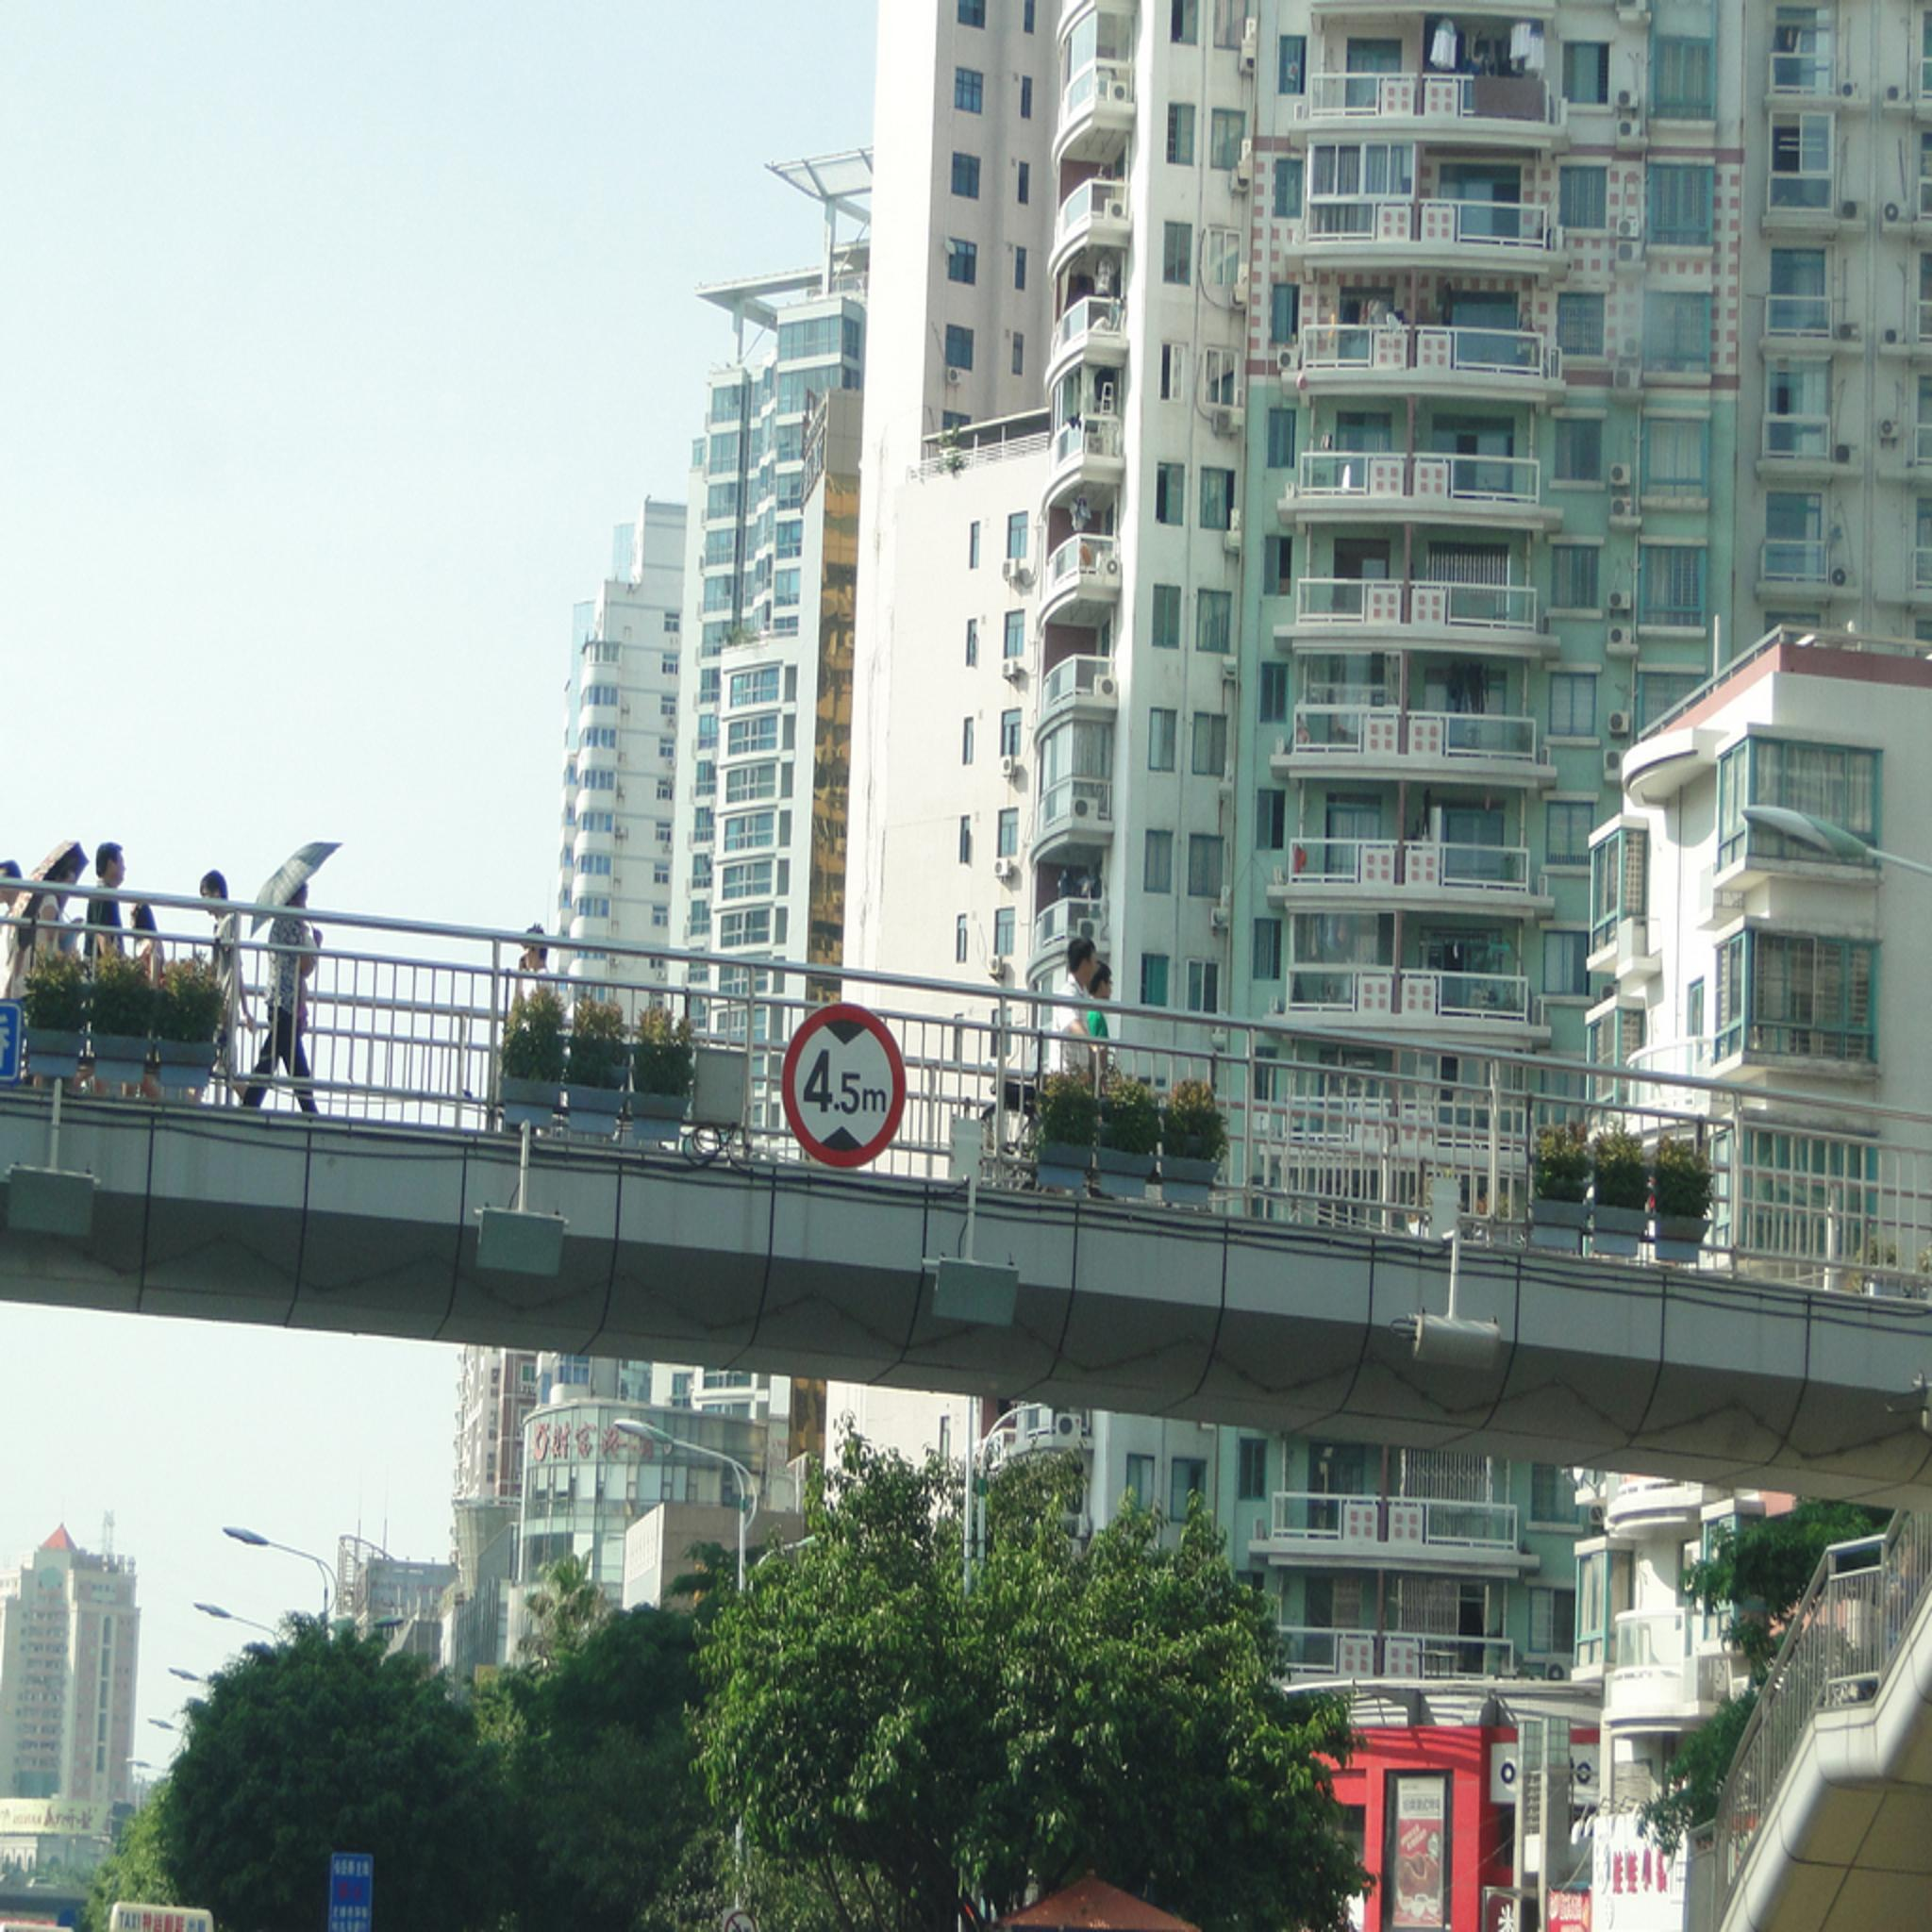ph4.5: (784, 1000, 893, 1171)
